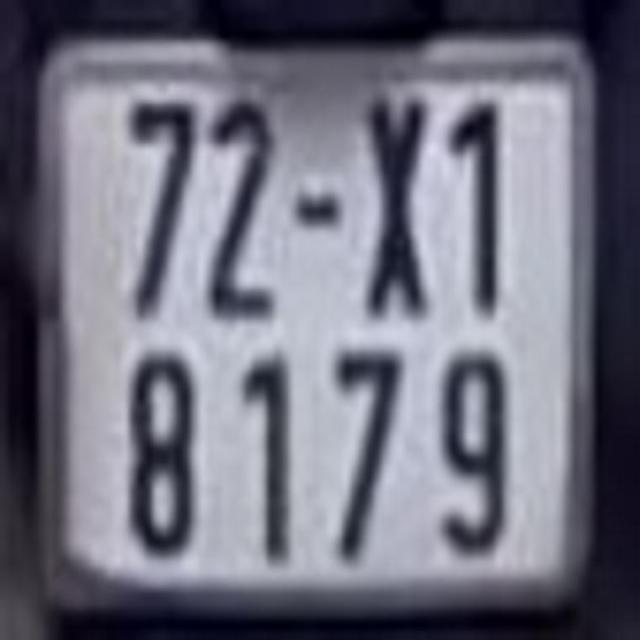1: (448, 96, 508, 316), (240, 348, 298, 564)
2: (202, 100, 276, 310)
7: (118, 101, 190, 318), (332, 351, 399, 566)
8: (126, 356, 196, 550)
9: (437, 348, 508, 551)
X: (361, 97, 426, 321)
